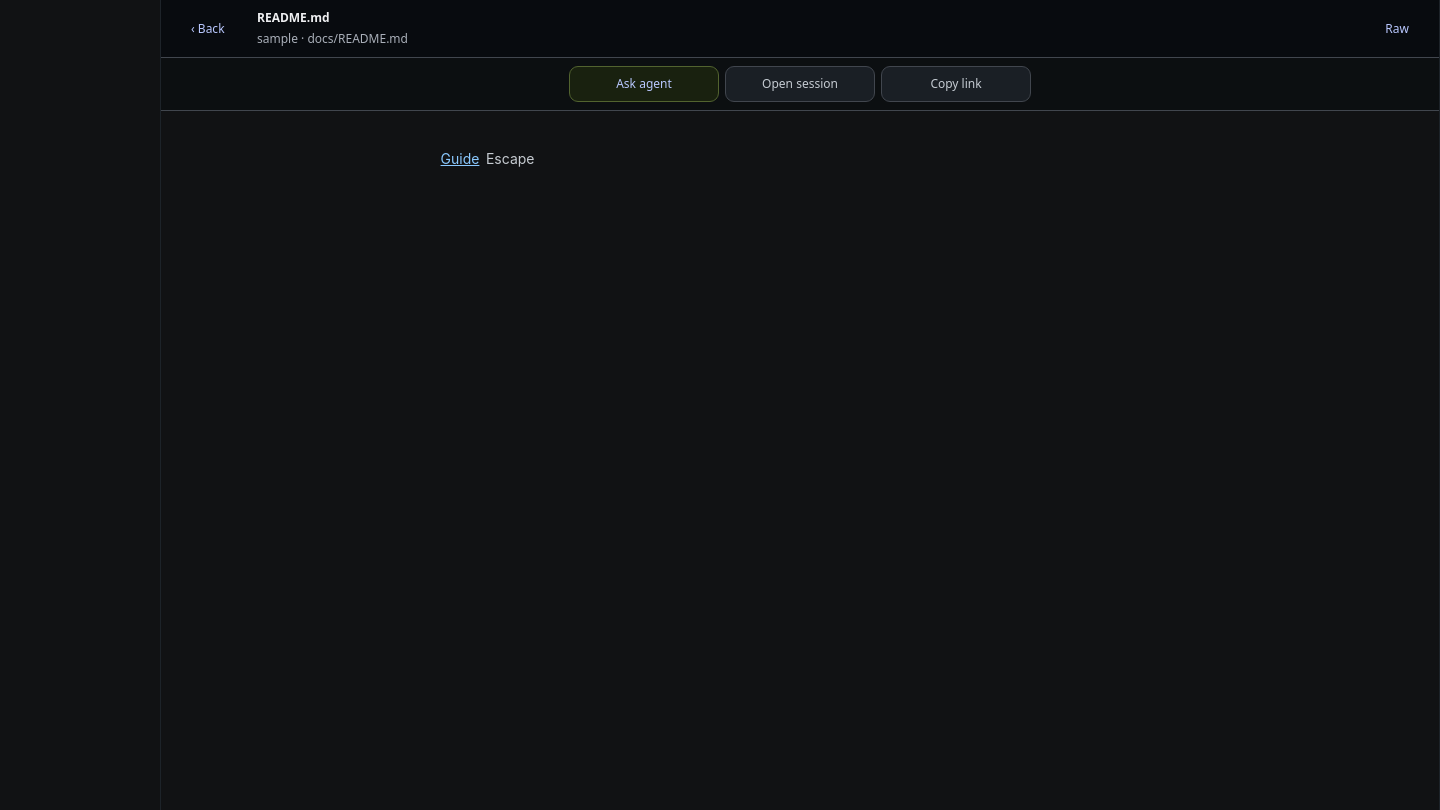
Test: MarkdownViewer › follows repository links and updates the address, refusing links that escape
Click the button "Guide". click: click(460, 159)
box: [438,147,482,171]
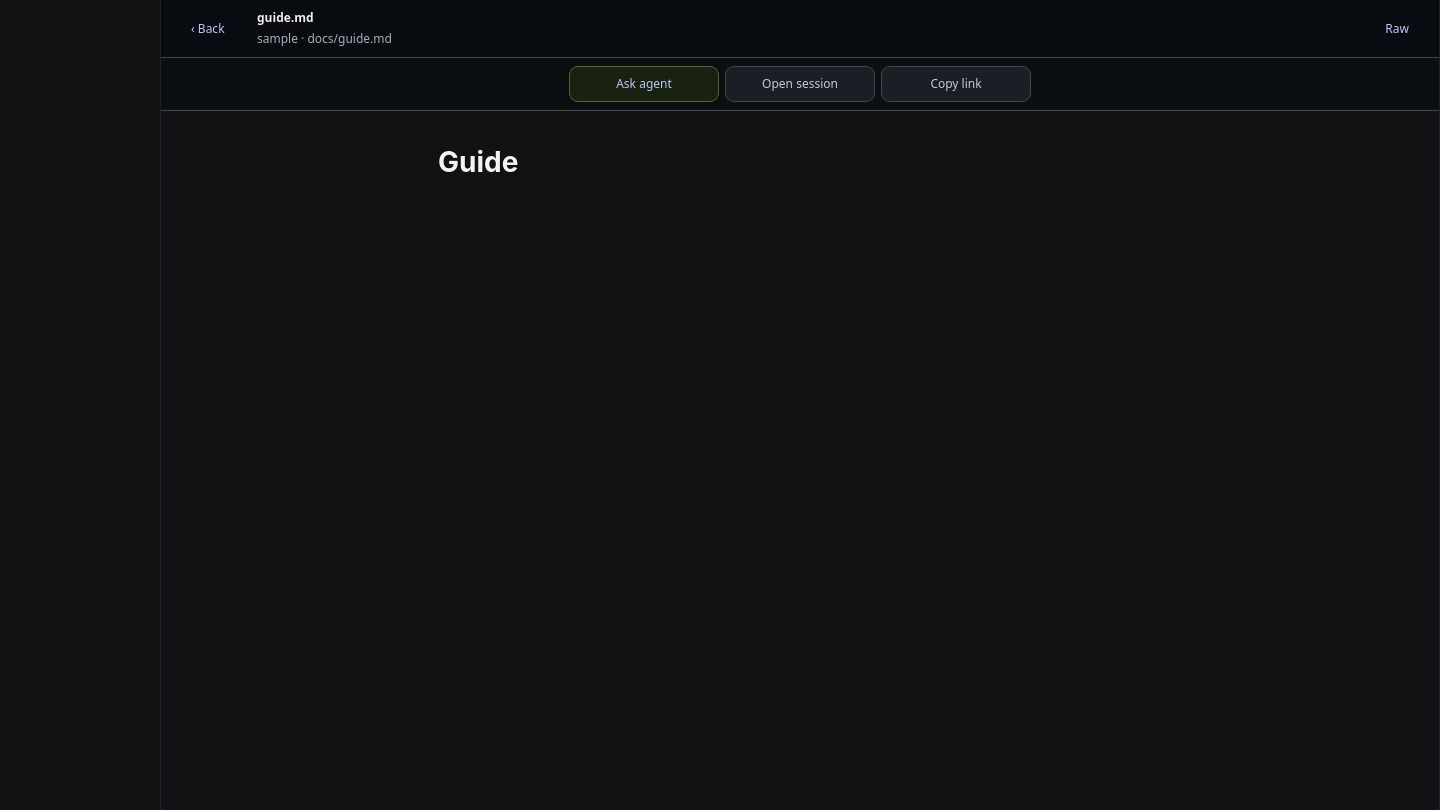
Expected: the heading "Guide" is shown, [438,145,518,179]
